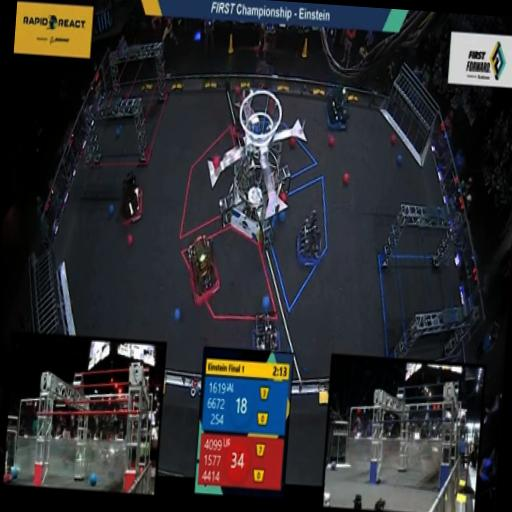robot: (182, 227, 226, 308), (112, 168, 150, 232), (291, 202, 326, 270), (243, 308, 293, 355), (320, 80, 352, 140)
